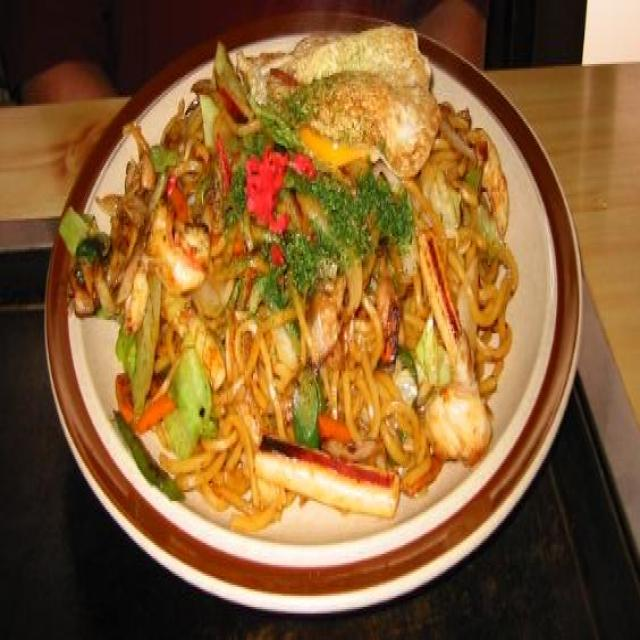面条主食: (42, 26, 588, 640)
